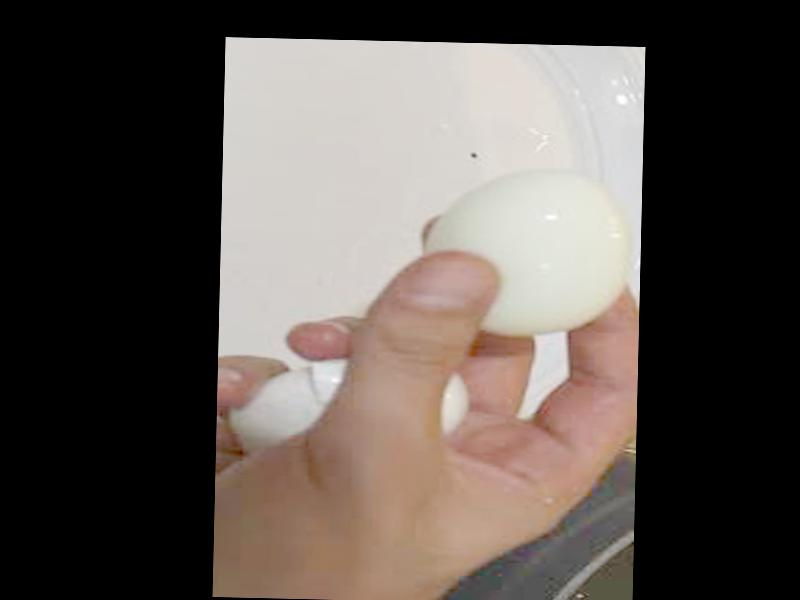Eggs: (420, 171, 639, 338)
